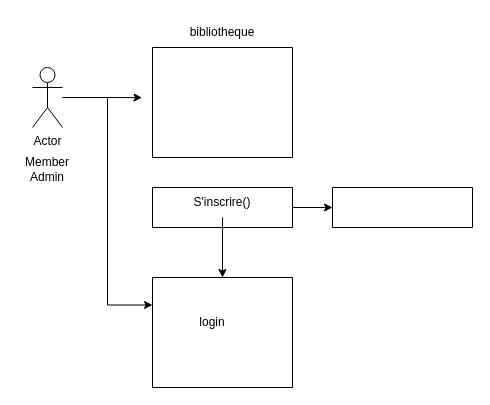
This 490x405 diagram has some shape labels left out. Here are the shapes that lost their labels. From the top down, the centre of each, then its label:
the point at 222,102: Sign in
the point at 402,207: ErrorInscription()
